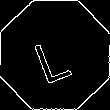L_N: (32, 26, 78, 84)
